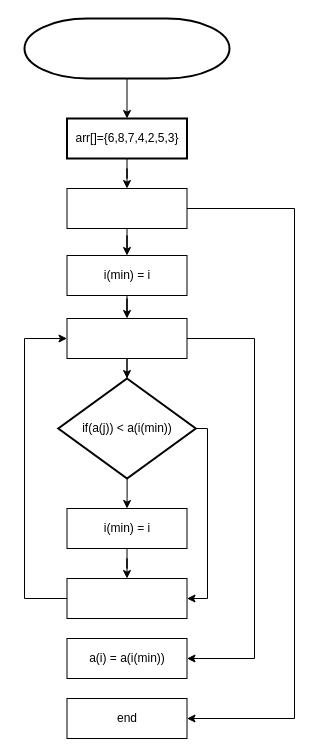
Image size: 320x756. Some labels were removed from this diagram. The shapes that lost their labels are listed below. From the top down, each one's centre as x and y in pixels, then its label:
point 126,48: start
point 126,208: for i = 0 to n-2
point 126,338: for j = i+1 to n-1
